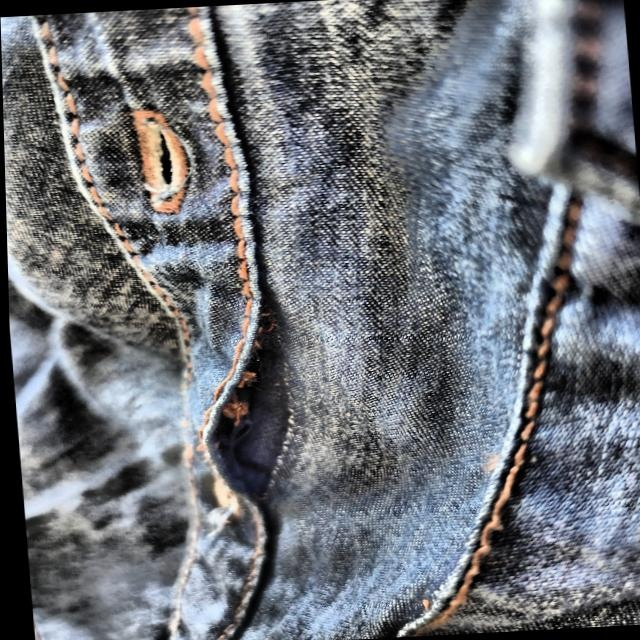seam: (176, 271, 320, 520)
